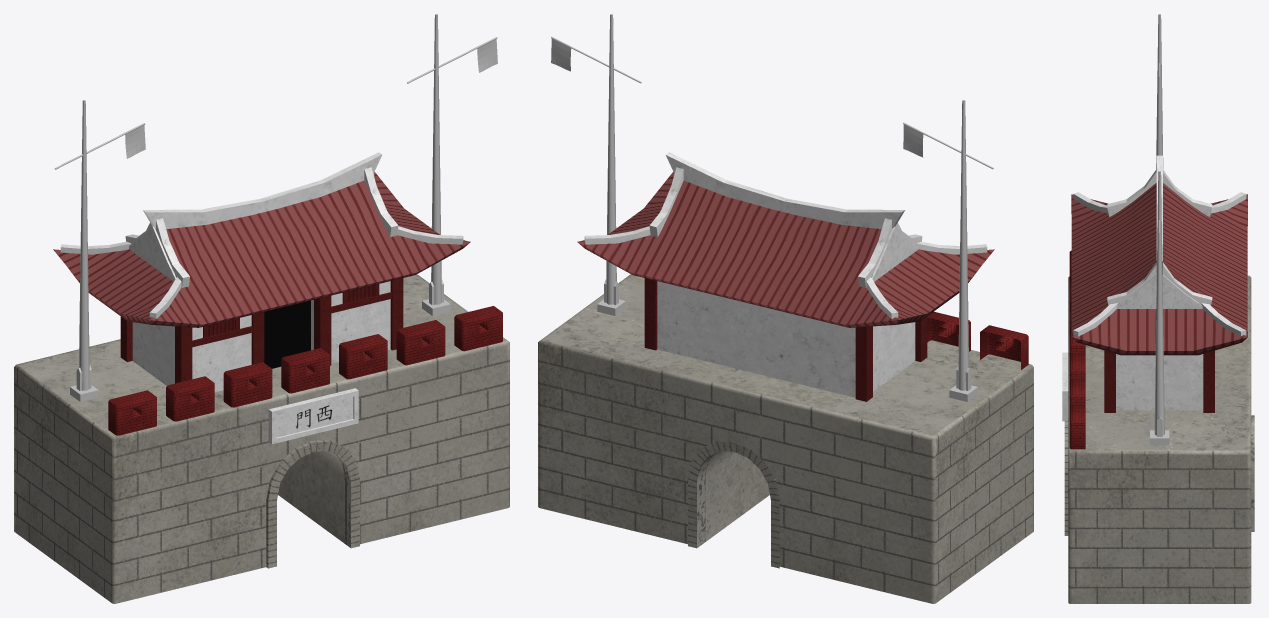
Rendered from Tower.fbx.
3 views of the same model, side by side, from view 1: azimuth 30°, elevation 25°; view 2: azimuth 150°, elevation 25°; view 3: azimuth 270°, elevation 25° (orthographic). The views are drawn at different scales.
Parts seen in each view (by area): view 1: Cube.001, Cube.003, Cube.002, Cube, Cube.120, Cube.335, Cube.351, Cube.339, Circle.001, Cube.345, Cube.348, Cube.346 (+9 smaller); view 2: Cube.001, Cube.003, Cube.002, Cube, Cube.120, Cube.351, Cube.339, Circle.001, Cube.338, Cube.337, Cube.336, Cube.350 (+1 smaller); view 3: Cube.001, Cube.003, Cube.002, Cube.351, Cube.337, Cube.338, Cube.339, Cube, Circle.001, Cube.349, Cube.335, Cube.120 (+2 smaller).
Boxes of the visible parts, x1=… form: Cube.001: x1=14, y1=274, x2=509, y2=603; Cube.003: x1=53, y1=172, x2=470, y2=327; Cube.002: x1=132, y1=281, x2=390, y2=392; Cube: x1=266, y1=440, x2=359, y2=568; Cube.120: x1=143, y1=152, x2=381, y2=228; Cube.335: x1=268, y1=388, x2=358, y2=444; Cube.351: x1=407, y1=14, x2=497, y2=315; Cube.339: x1=120, y1=278, x2=403, y2=383; Circle.001: x1=79, y1=100, x2=89, y2=390; Cube.345: x1=223, y1=362, x2=272, y2=407; Cube.348: x1=396, y1=320, x2=445, y2=365; Cube.346: x1=281, y1=348, x2=329, y2=393; Cube.001: x1=538, y1=274, x2=1033, y2=603; Cube.003: x1=577, y1=172, x2=994, y2=327; Cube.002: x1=657, y1=281, x2=915, y2=397; Cube: x1=688, y1=441, x2=779, y2=568; Cube.120: x1=666, y1=152, x2=904, y2=228; Cube.351: x1=551, y1=14, x2=641, y2=315; Cube.339: x1=644, y1=278, x2=927, y2=401; Circle.001: x1=958, y1=100, x2=968, y2=390; Cube.338: x1=584, y1=173, x2=987, y2=318; Cube.337: x1=649, y1=167, x2=922, y2=287; Cube.336: x1=980, y1=325, x2=1028, y2=369; Cube.350: x1=903, y1=122, x2=993, y2=401; Cube.001: x1=1068, y1=275, x2=1251, y2=603; Cube.003: x1=1071, y1=183, x2=1247, y2=355; Cube.002: x1=1116, y1=354, x2=1203, y2=410; Cube.351: x1=1150, y1=171, x2=1169, y2=445; Cube.337: x1=1107, y1=169, x2=1212, y2=305; Cube.338: x1=1073, y1=192, x2=1246, y2=336; Cube.339: x1=1104, y1=350, x2=1214, y2=412; Cube: x1=1064, y1=415, x2=1254, y2=535; Circle.001: x1=1156, y1=14, x2=1163, y2=169; Cube.349: x1=1069, y1=404, x2=1085, y2=449; Cube.335: x1=1062, y1=352, x2=1068, y2=421; Cube.120: x1=1156, y1=155, x2=1162, y2=274.
Size of the model in its own units: 1990 by 1985 by 821.
